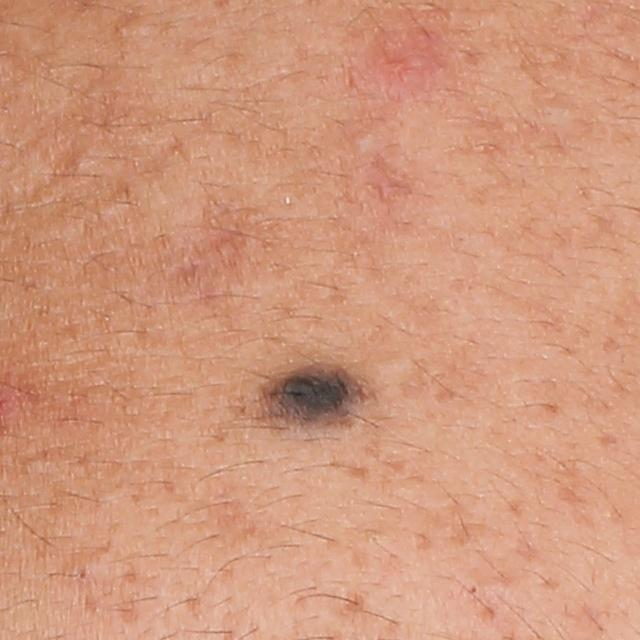comedo: (66, 143, 91, 179), (116, 16, 151, 39), (350, 127, 376, 153)
nevus: (258, 364, 358, 427)
